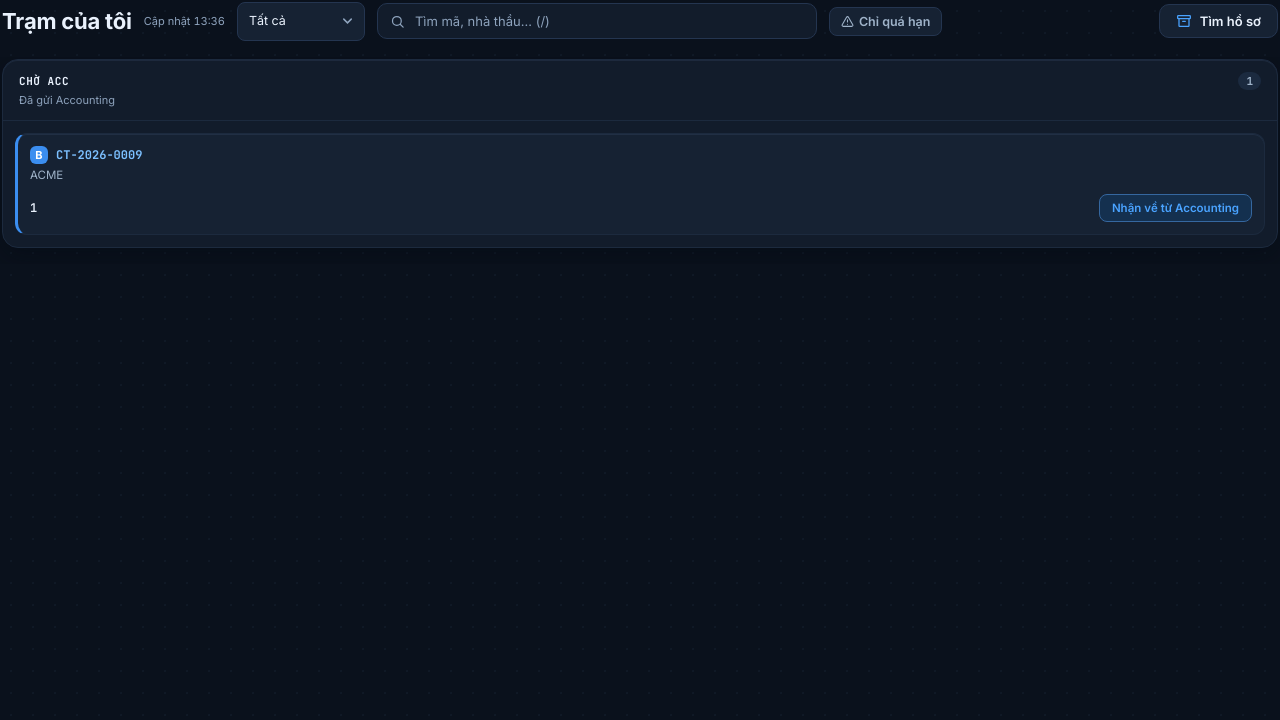
Test: StationBoard — DCC1 Chờ ACC (Story 3.3) › renders the "Chờ ACC" label and opens the dated receipt modal
Expected: the text "Chờ ACC" is shown, left=19, top=72, right=69, bottom=89
Step 1. Click the button "Nhận về từ Accounting" → (1175, 208), box left=1099, top=194, right=1252, bottom=222
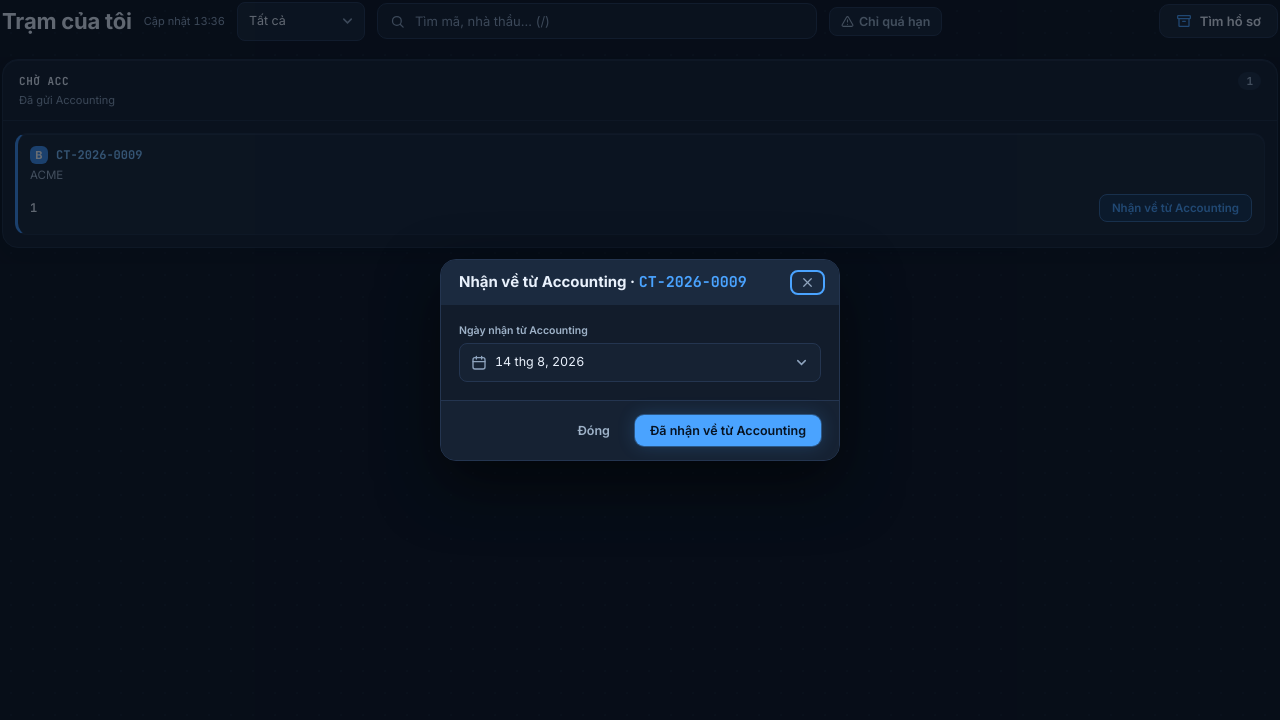
Result: the dialog shows "Nhận về từ Accounting" at left=459, top=272, right=627, bottom=291
